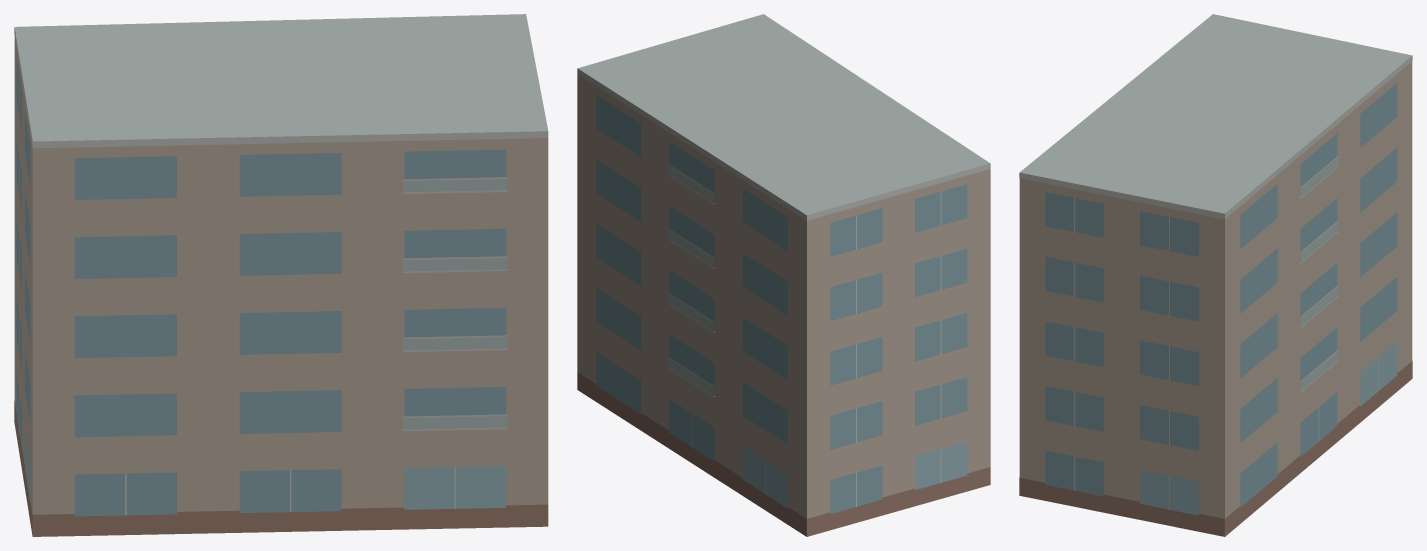
Rendered from survey-upis-32886178.glb.
The picture shows the model from 3 angles, left to right: view 1: azimuth 30°, elevation 25°; view 2: azimuth 150°, elevation 25°; view 3: azimuth 270°, elevation 25°; orthographic projection. The views are drawn at different scales.
Parts seen in each view (by area): view 1: survey-upis-32886178.tmp; view 2: survey-upis-32886178.tmp; view 3: survey-upis-32886178.tmp.
Part boxes in pixels (x1,y1,x2,y2): survey-upis-32886178.tmp: [14, 14, 548, 536]; survey-upis-32886178.tmp: [577, 14, 990, 536]; survey-upis-32886178.tmp: [1019, 14, 1412, 536].
Size of the model in its own units: 18.83 by 14.2 by 15.66.
